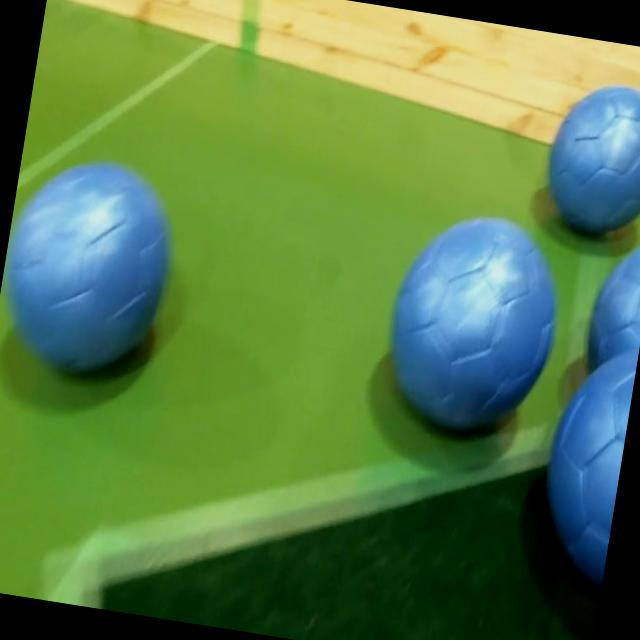blue_ball: (374, 202, 570, 450), (0, 152, 183, 390), (534, 342, 638, 584), (538, 77, 640, 245), (584, 236, 640, 380)
